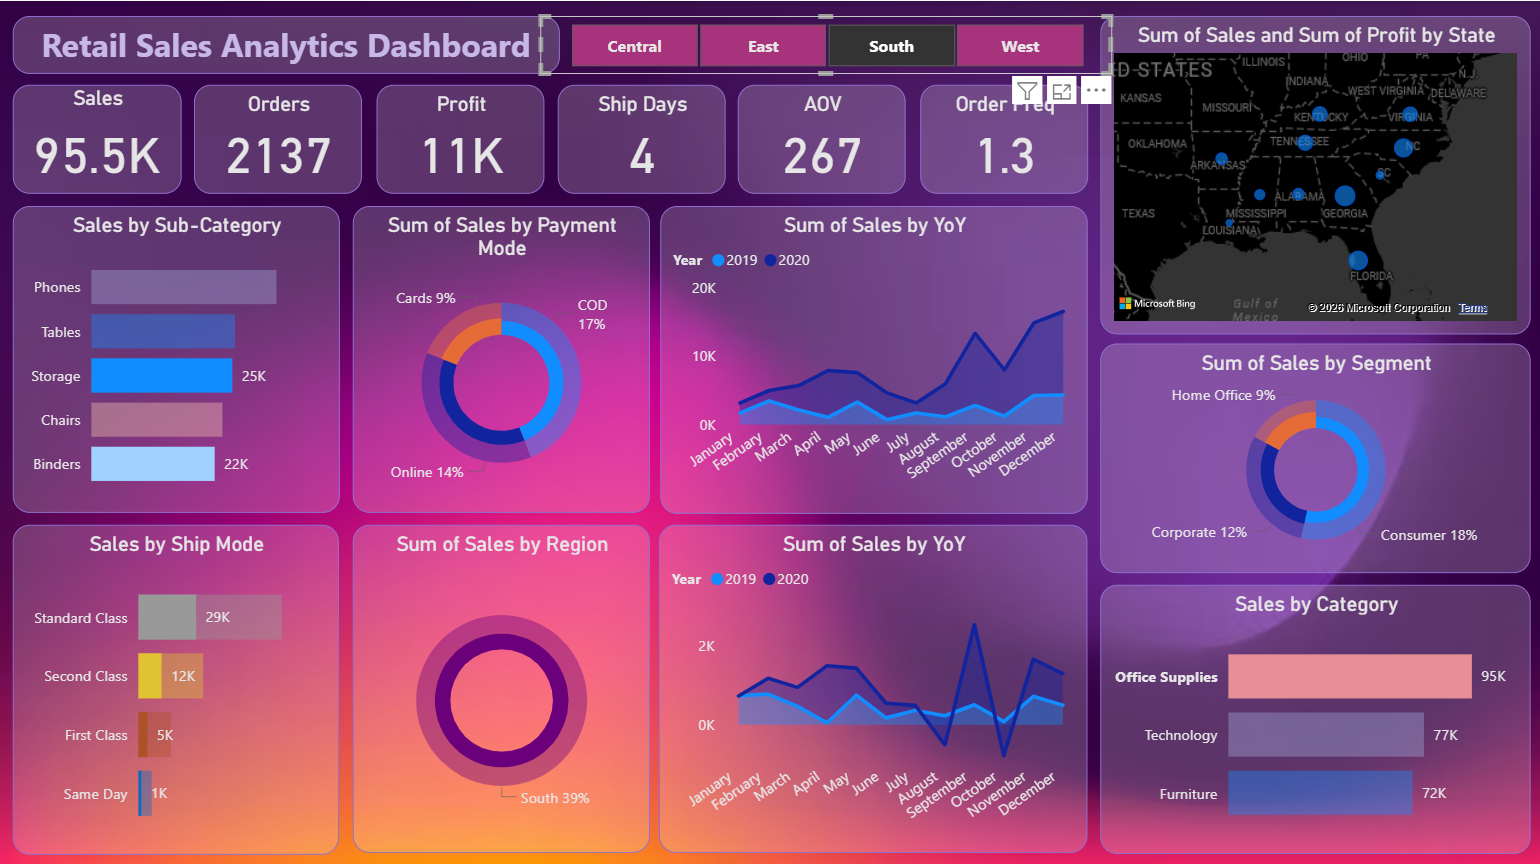

This screenshot's page, from the dashboard's own definition file:
{"tool":"powerbi","page":{"name":"Page 1","canvas":[1280,720],"ordinal":0},"visuals":[{"type":"clusteredBarChart","title":"Sales by Category","fields":{"Category":["SuperStore_Sales_Dataset.Category"],"Y":["Sum(SuperStore_Sales_Dataset.Sales)"]},"box":[912.9,484.3,357.1,222.9],"z":0},{"type":"clusteredBarChart","title":"Sales by Sub-Category","fields":{"Category":["SuperStore_Sales_Dataset.Sub-Category"],"Y":["Sum(SuperStore_Sales_Dataset.Sales)"]},"box":[11.1,170.1,271,254.4],"z":1000},{"type":"clusteredBarChart","title":"Sales by Ship Mode","fields":{"Category":["SuperStore_Sales_Dataset.Ship Mode"],"Y":["Sum(SuperStore_Sales_Dataset.Sales)"]},"box":[11.3,433.8,270.4,273.2],"z":2000},{"type":"stackedAreaChart","title":"Sum of Sales by YoY","fields":{"Y":["Sum(SuperStore_Sales_Dataset.Sales)"],"Category":["SuperStore_Sales_Dataset.Order Date.Variation.Date Hierarchy.Month"],"Series":["SuperStore_Sales_Dataset.Order Date.Variation.Date Hierarchy.Year"]},"box":[547.7,169.8,354.7,255],"z":3000},{"type":"map","fields":{"Category":["SuperStore_Sales_Dataset.State"],"Size":["Sum(SuperStore_Sales_Dataset.Sales)"]},"box":[912.9,12.9,357.1,264.3],"z":4000},{"type":"donutChart","fields":{"Category":["SuperStore_Sales_Dataset.Segment"],"Y":["Sum(SuperStore_Sales_Dataset.Sales)"]},"box":[912.9,284.3,357.1,190],"z":5000},{"type":"donutChart","fields":{"Category":["SuperStore_Sales_Dataset.Region"],"Y":["Sum(SuperStore_Sales_Dataset.Sales)"]},"box":[293,433.8,246.5,271.8],"z":6000},{"type":"donutChart","fields":{"Category":["SuperStore_Sales_Dataset.Payment Mode"],"Y":["Sum(SuperStore_Sales_Dataset.Sales)"]},"box":[293.1,170.1,246.1,254.4],"z":7000},{"type":"slicer","fields":{"Values":["SuperStore_Sales_Dataset.Region"]},"box":[448.6,12.9,474.3,48.6],"z":8000},{"type":"stackedAreaChart","title":"Sum of Sales by YoY","fields":{"Category":["SuperStore_Sales_Dataset.Order Date.Variation.Date Hierarchy.Month"],"Series":["SuperStore_Sales_Dataset.Order Date.Variation.Date Hierarchy.Year"],"Y":["Sum(SuperStore_Sales_Dataset.Profit)"]},"box":[547.5,434.1,355.3,272.4],"z":9000},{"type":"textbox","box":[11.1,12.4,453.5,48.4],"z":10000},{"type":"card","title":"Sales","fields":{"Values":["Sum(SuperStore_Sales_Dataset.Sales)"]},"box":[11.3,69,140,90],"z":11000},{"type":"card","title":"Orders","fields":{"Values":["Sum(SuperStore_Sales_Dataset.Quantity)"]},"box":[162,69,139.4,90.1],"z":12000},{"type":"card","title":"Profit","fields":{"Values":["Sum(SuperStore_Sales_Dataset.Profit)"]},"box":[312.7,69,139.4,90.1],"z":13000},{"type":"card","title":"Ship Days","fields":{"Values":["Avg(SuperStore_Sales_Dataset.AvgDelivery)"]},"box":[463.4,69,139.4,90.1],"z":14000},{"type":"card","title":"AOV","fields":{"Values":["Salesforecast.AOV"]},"box":[612.7,69,139.4,90.1],"z":15000},{"type":"card","title":"Order Freq","fields":{"Values":["Salesforecast.Orders per Customer"]},"box":[763.4,69,139.4,90.1],"z":16000}]}

Visuals, with their boxes in screenshot pixels (x1, y1, x2, y2), scaled from the page's 1280x720 canvas onto the 1540x864 screenshot:
"Sales by Category" clusteredBarChart: [left=1098, top=581, right=1528, bottom=849]
"Sales by Sub-Category" clusteredBarChart: [left=13, top=204, right=339, bottom=509]
"Sales by Ship Mode" clusteredBarChart: [left=14, top=521, right=339, bottom=848]
"Sum of Sales by YoY" stackedAreaChart: [left=659, top=204, right=1086, bottom=510]
map - SuperStore_Sales_Dataset.State x Sum(SuperStore_Sales_Dataset.Sales): [left=1098, top=15, right=1528, bottom=333]
donutChart - SuperStore_Sales_Dataset.Segment x Sum(SuperStore_Sales_Dataset.Sales): [left=1098, top=341, right=1528, bottom=569]
donutChart - SuperStore_Sales_Dataset.Region x Sum(SuperStore_Sales_Dataset.Sales): [left=353, top=521, right=649, bottom=847]
donutChart - SuperStore_Sales_Dataset.Payment Mode x Sum(SuperStore_Sales_Dataset.Sales): [left=353, top=204, right=649, bottom=509]
slicer - SuperStore_Sales_Dataset.Region: [left=540, top=15, right=1110, bottom=74]
"Sum of Sales by YoY" stackedAreaChart: [left=659, top=521, right=1086, bottom=848]
textbox: [left=13, top=15, right=559, bottom=73]
"Sales" card: [left=14, top=83, right=182, bottom=191]
"Orders" card: [left=195, top=83, right=363, bottom=191]
"Profit" card: [left=376, top=83, right=544, bottom=191]
"Ship Days" card: [left=558, top=83, right=725, bottom=191]
"AOV" card: [left=737, top=83, right=905, bottom=191]
"Order Freq" card: [left=918, top=83, right=1086, bottom=191]
